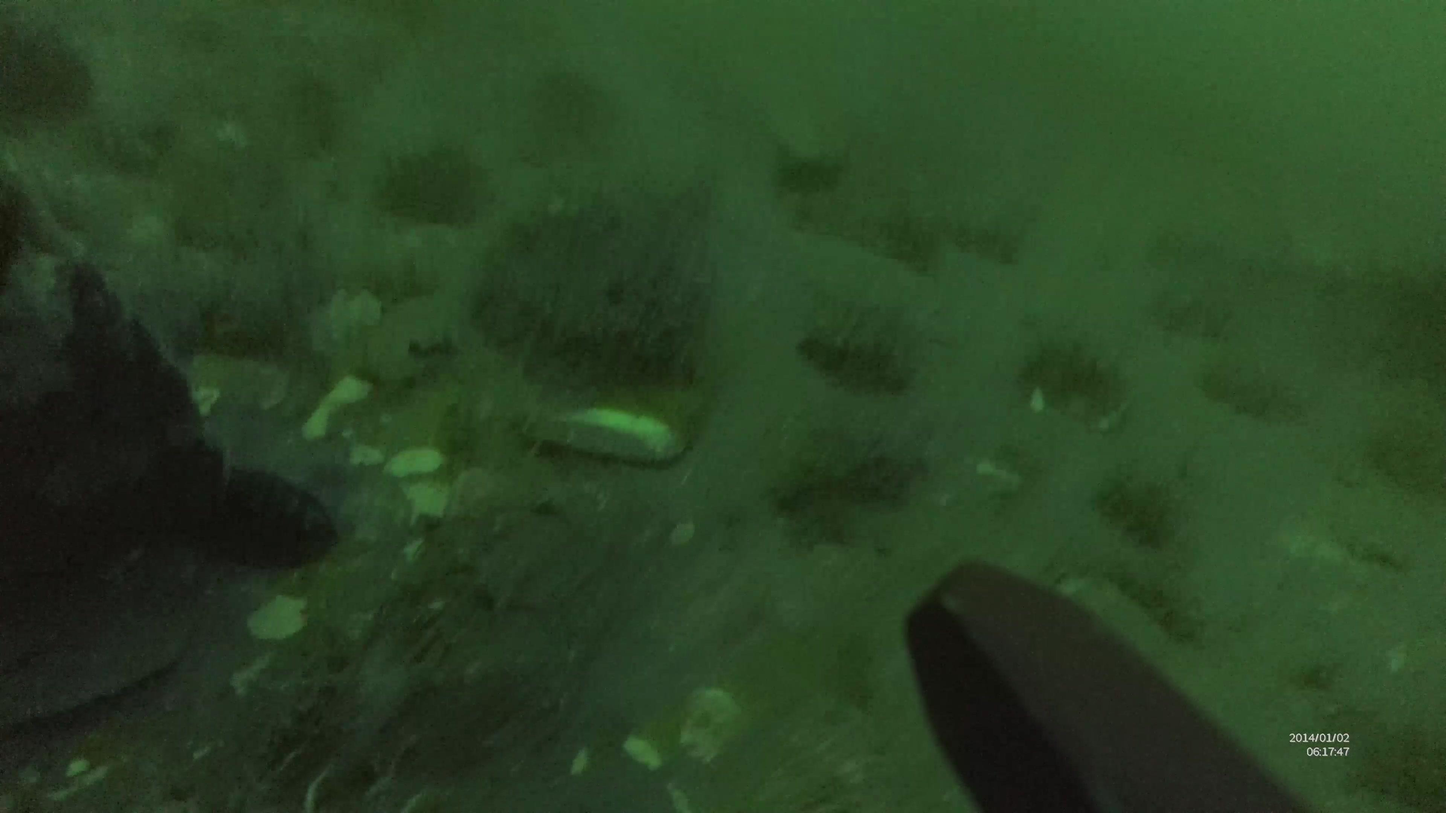scallop: (249, 592, 308, 640)
